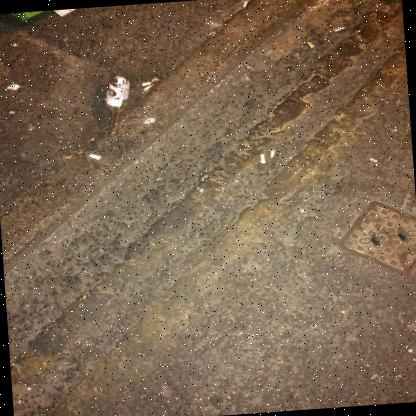Cigarette: (143, 82, 155, 91), (89, 154, 102, 160), (260, 154, 266, 164), (142, 82, 153, 86), (151, 77, 162, 81), (271, 150, 275, 158), (243, 1, 247, 8)
Glass bottle: (106, 74, 130, 135)
